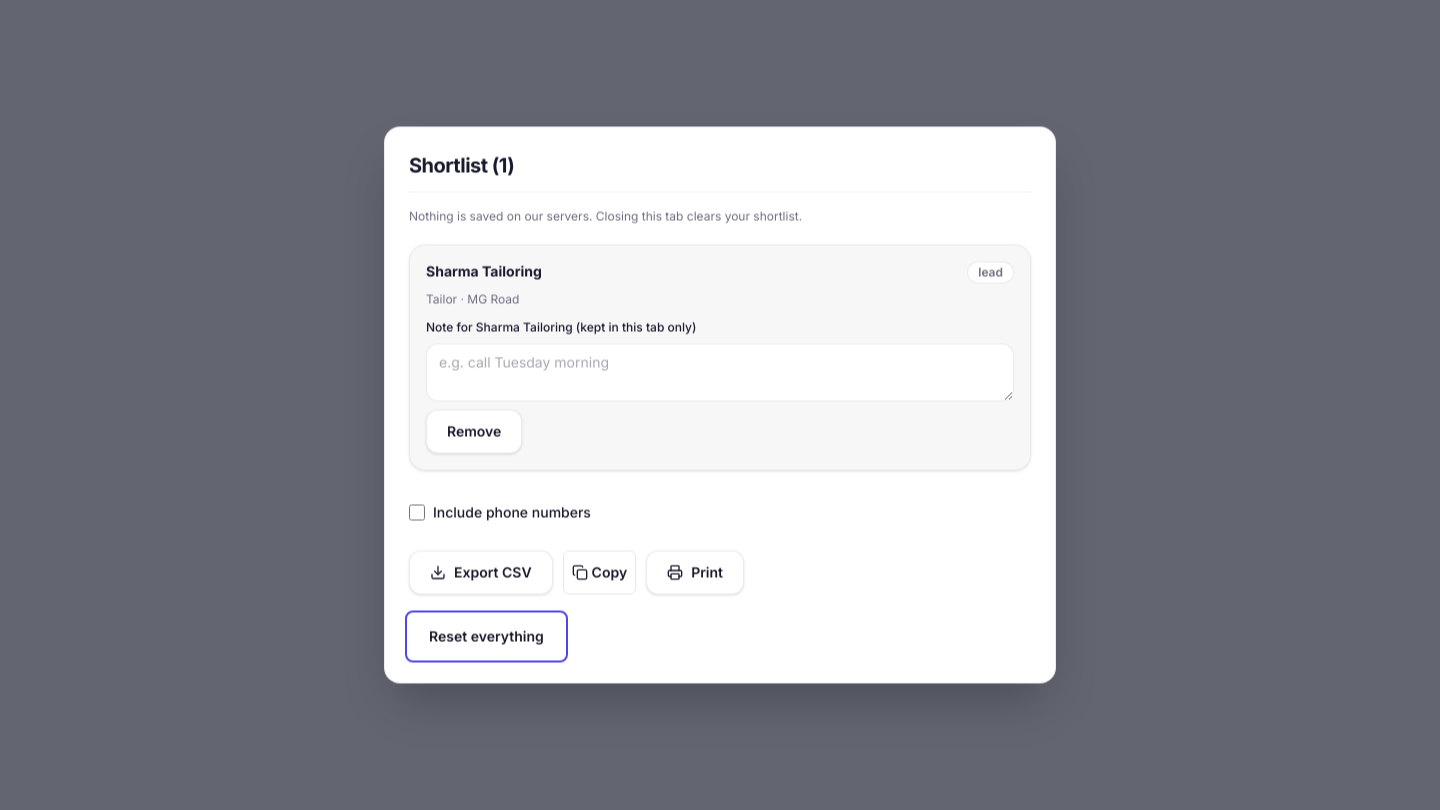
ShortlistDrawer › resets everything behind a confirm step
Expected: the text "Sharma Tailoring" is shown, [426,262,542,282]
Click the button "Reset everything" at coordinates (486, 636), box [409,614,564,658]
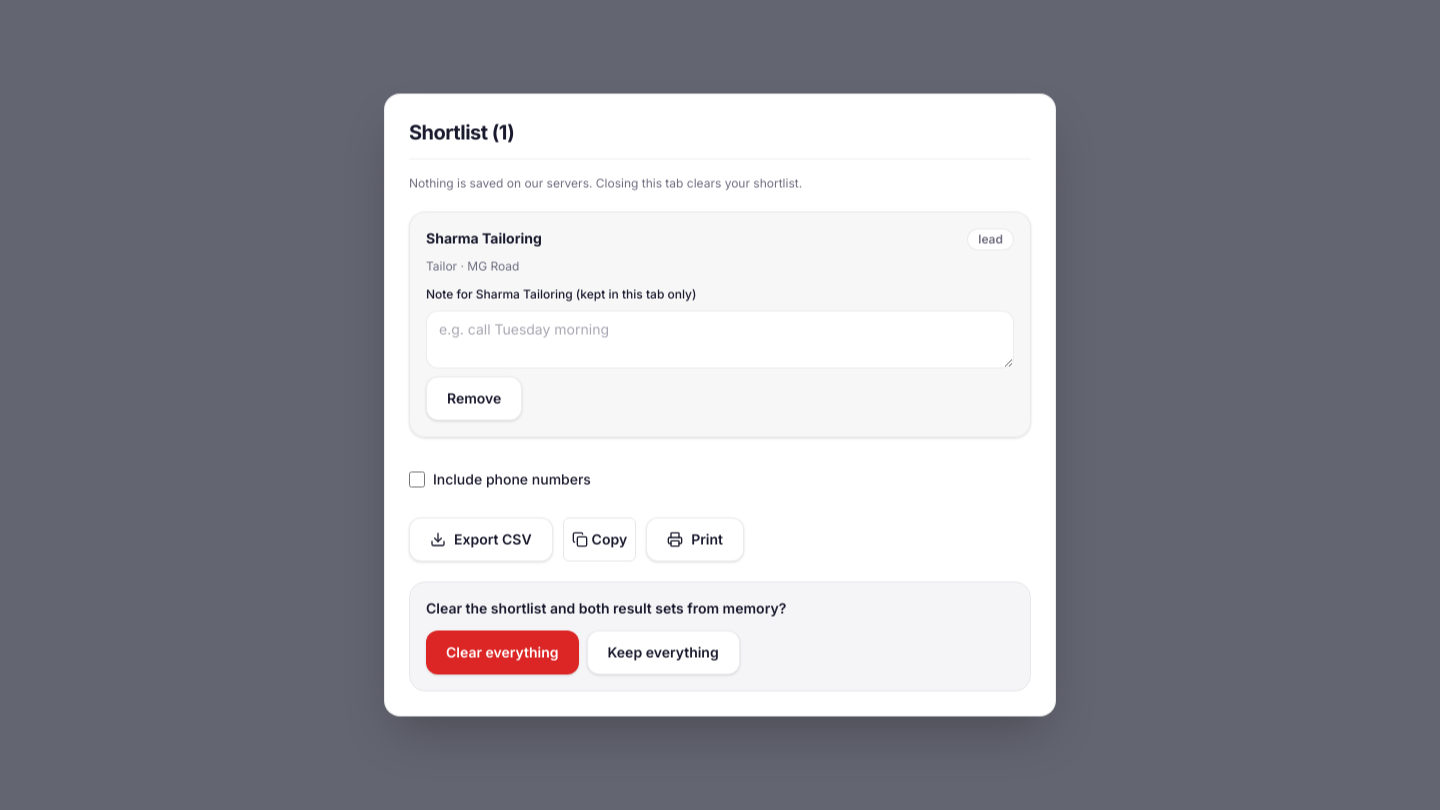
Expected: the text "Clear the shortlist and both result sets from memory?" is shown, [426,600,786,616]
Click the button "Clear everything" at coordinates (502, 652), box [426,630,578,674]
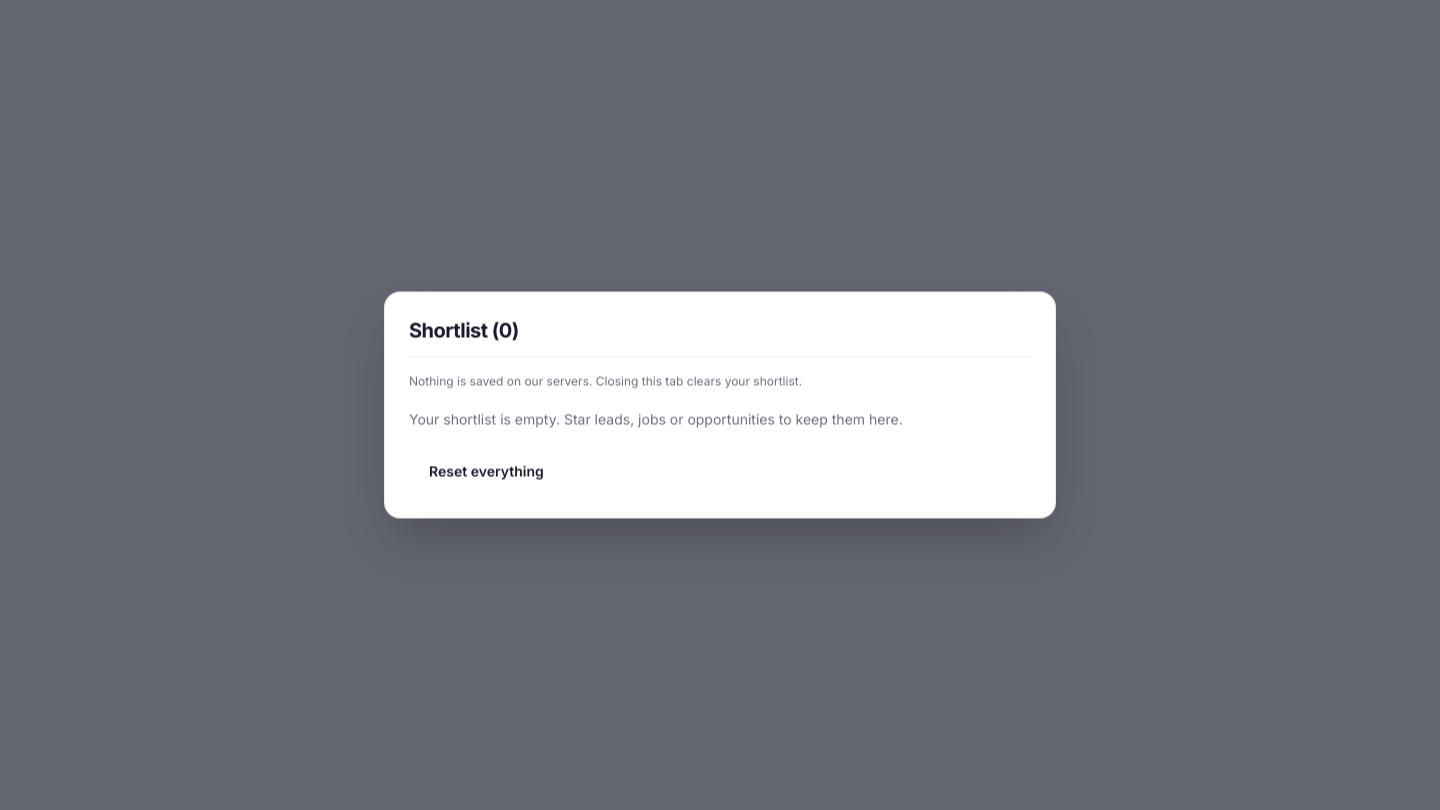
Expected: the text "shortlist is empty" is shown, [409,410,903,428]
